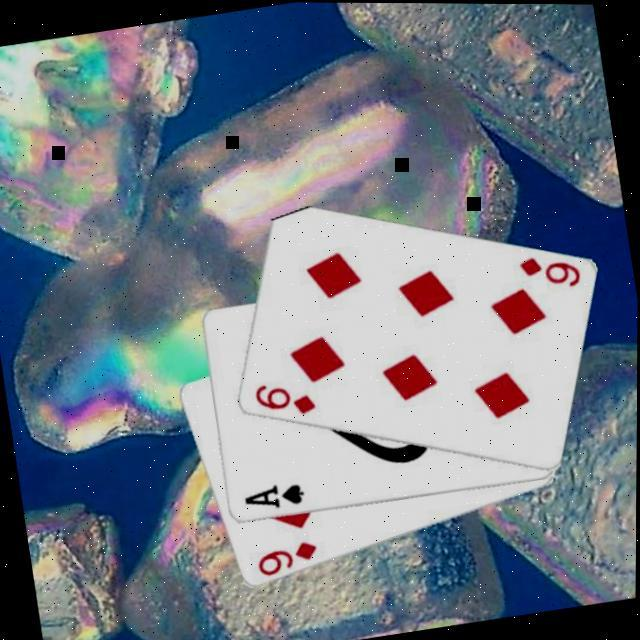6D: (513, 248, 583, 299), (248, 376, 318, 426)
9D: (251, 538, 322, 582)
AS: (238, 479, 308, 519)
